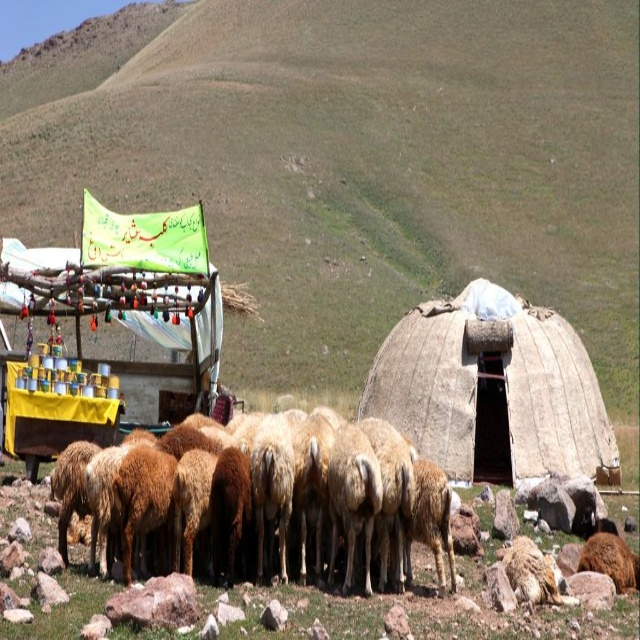Sheep: (50, 405, 640, 613)
